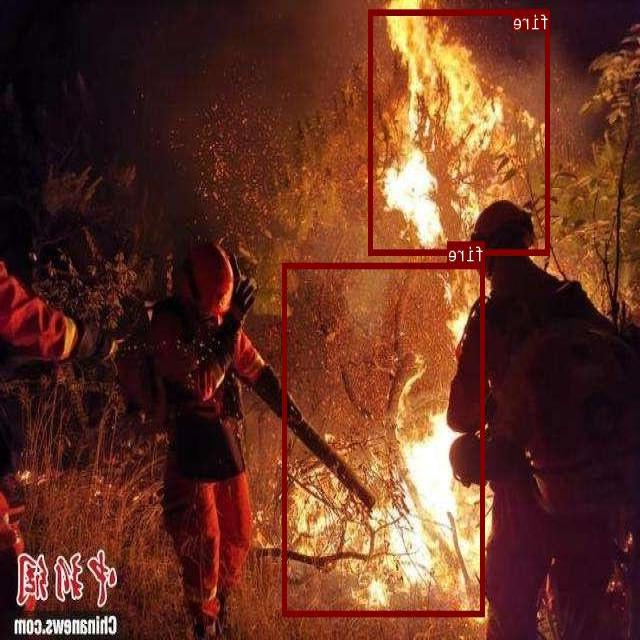fire: (284, 262, 485, 616), (370, 9, 550, 254)
